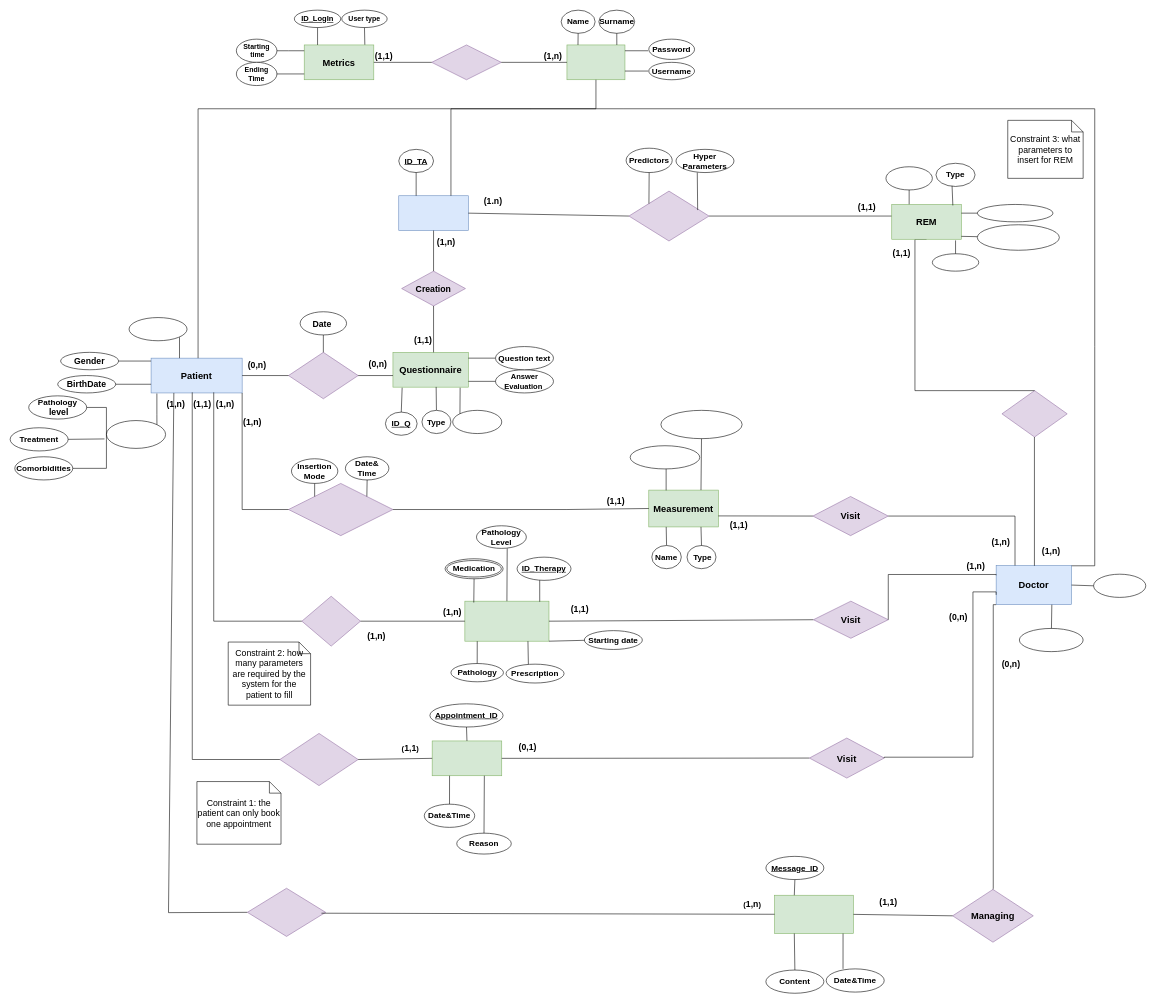
This 1156x1003 diagram has some shape labels left out. Here are the shapes that lost their labels. From the top down, the box of each, then its label:
(431, 44, 501, 80): Activity
(566, 44, 625, 80): User
(885, 166, 932, 190): ID_model
(398, 195, 468, 231): Technical Administrator
(628, 191, 709, 241): Implementation
(977, 204, 1053, 222): Optimal Weights
(977, 224, 1059, 250): Optimal Hyper Parameters
(932, 253, 979, 271): Accuracy
(128, 317, 187, 341): ID_patient
(288, 352, 358, 399): Filling
(452, 410, 502, 434): Frequency
(660, 410, 742, 439): Measurement data
(1001, 390, 1067, 437): Using
(106, 420, 166, 448): Medical History
(630, 445, 700, 469): Measurement_ID
(288, 483, 393, 536): Parameter insertion
(1093, 574, 1146, 597): ID_doctor
(301, 596, 360, 646): Following
(464, 601, 549, 641): Therapy
(1019, 628, 1083, 652): Specialization
(279, 733, 358, 786): Booking
(432, 740, 502, 776): Appointment
(247, 888, 326, 936): Receiving
(774, 895, 853, 934): Message
